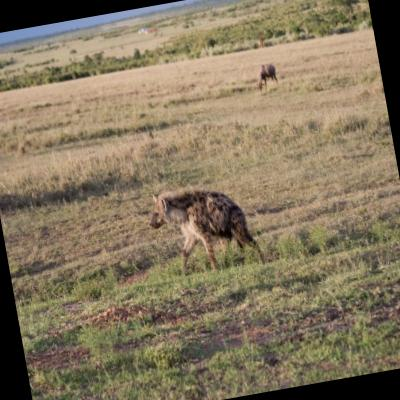hyenas: (140, 147, 314, 312)
